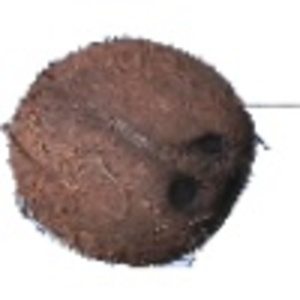coco: (1, 39, 269, 269)
